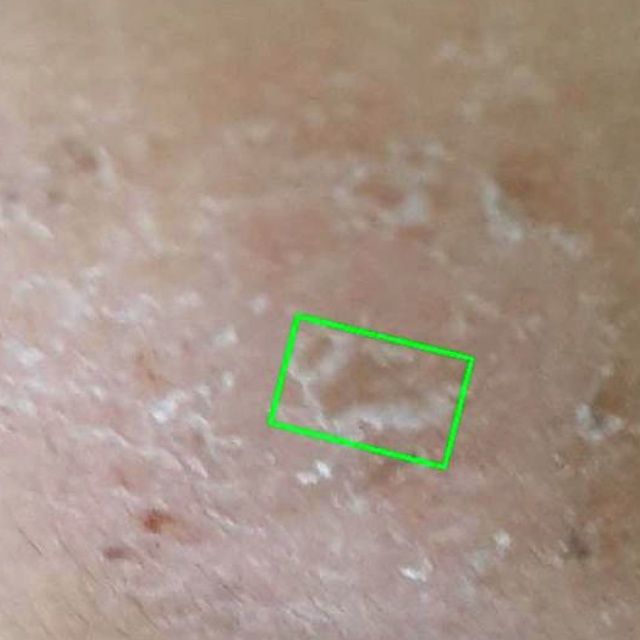Atopic Dermatitis: (271, 316, 472, 467)
